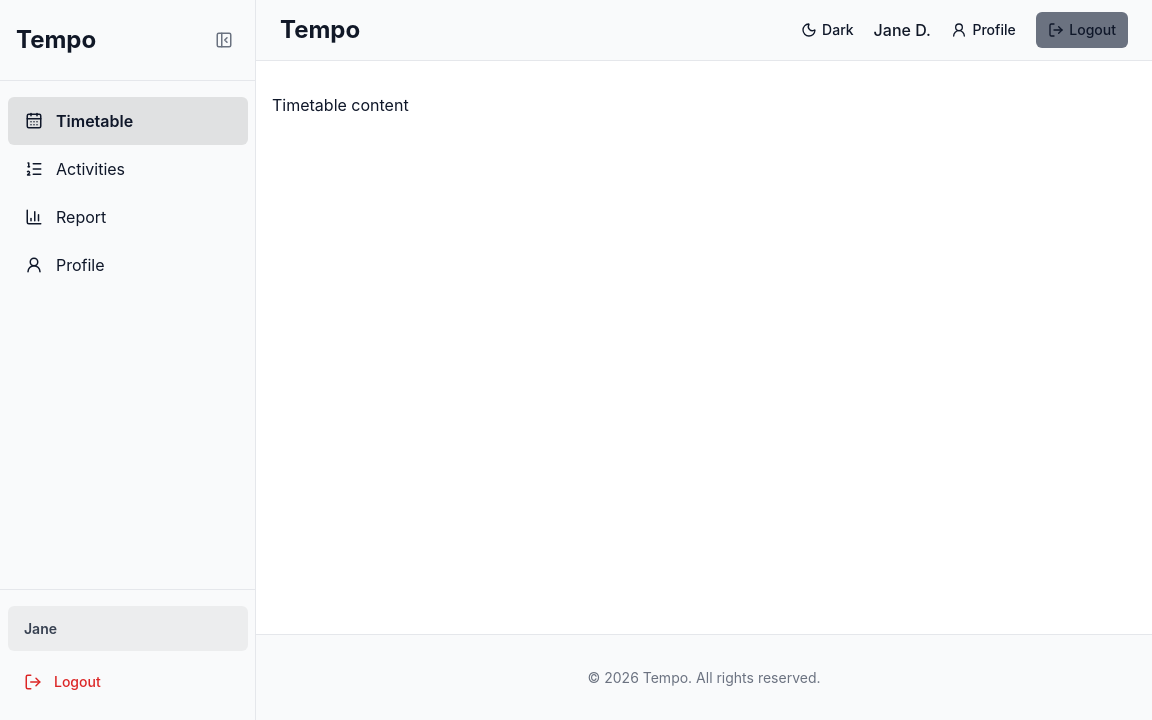
Test: ProtectedLayout sidebar collapse › collapses from the sidebar control and shows expand in the header
Click the button named "collapse sidebar" at (224, 40), box [208, 24, 240, 56]
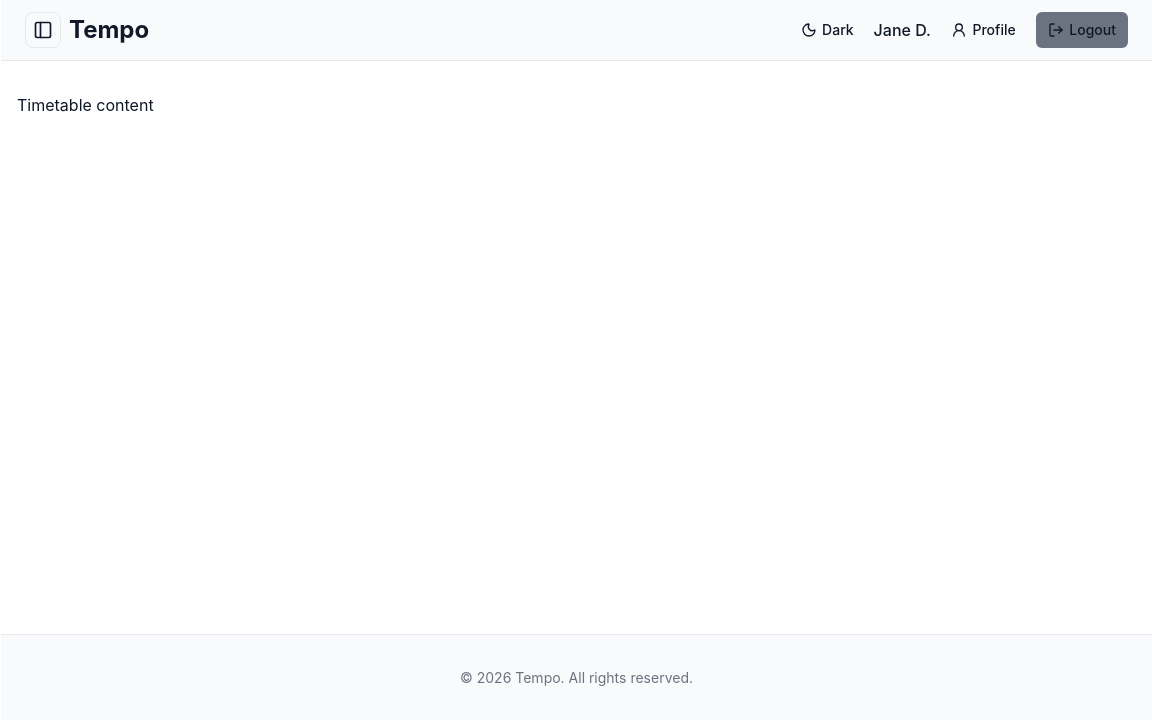
Result: the button named "open sidebar" is shown at [25, 12, 61, 48]
